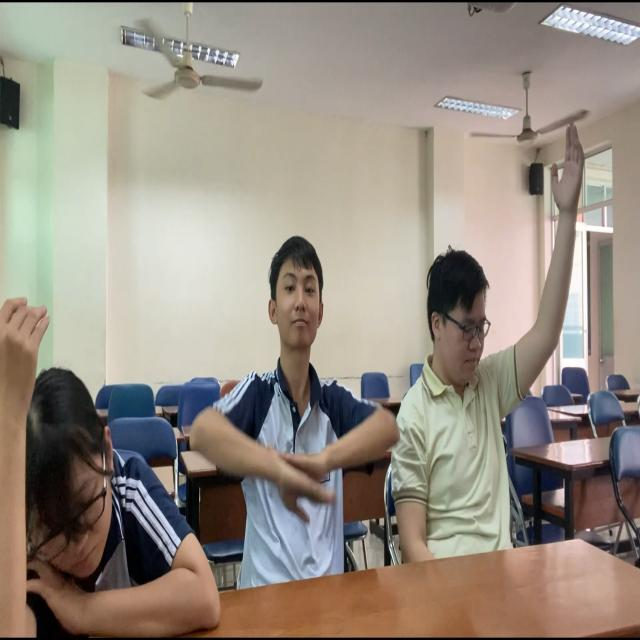raise_hand: (394, 125, 591, 547), (1, 295, 218, 640)
